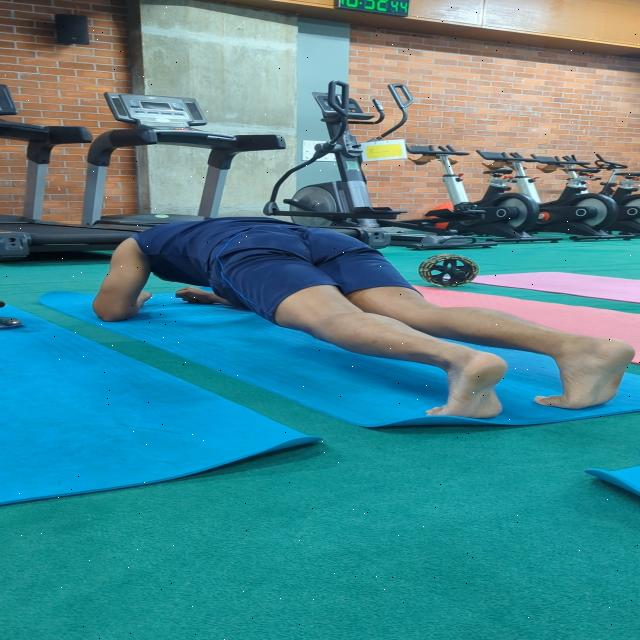Normal_Plunk: (63, 190, 640, 433)
